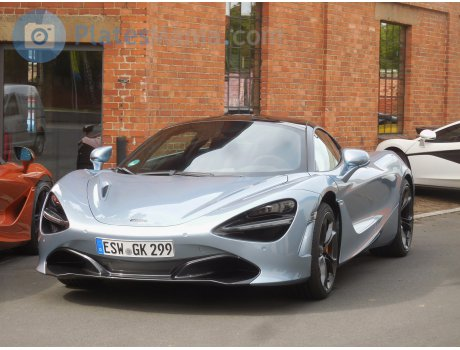License Plates: (100, 240, 170, 254)
